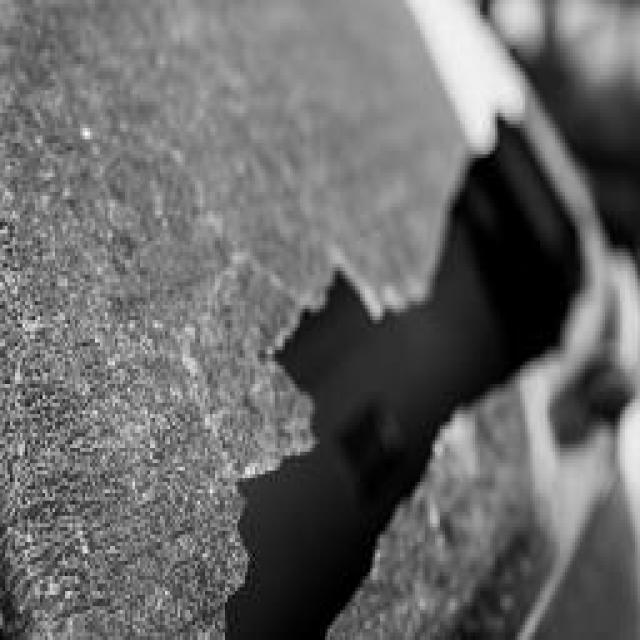Windshield: (2, 4, 568, 617)
